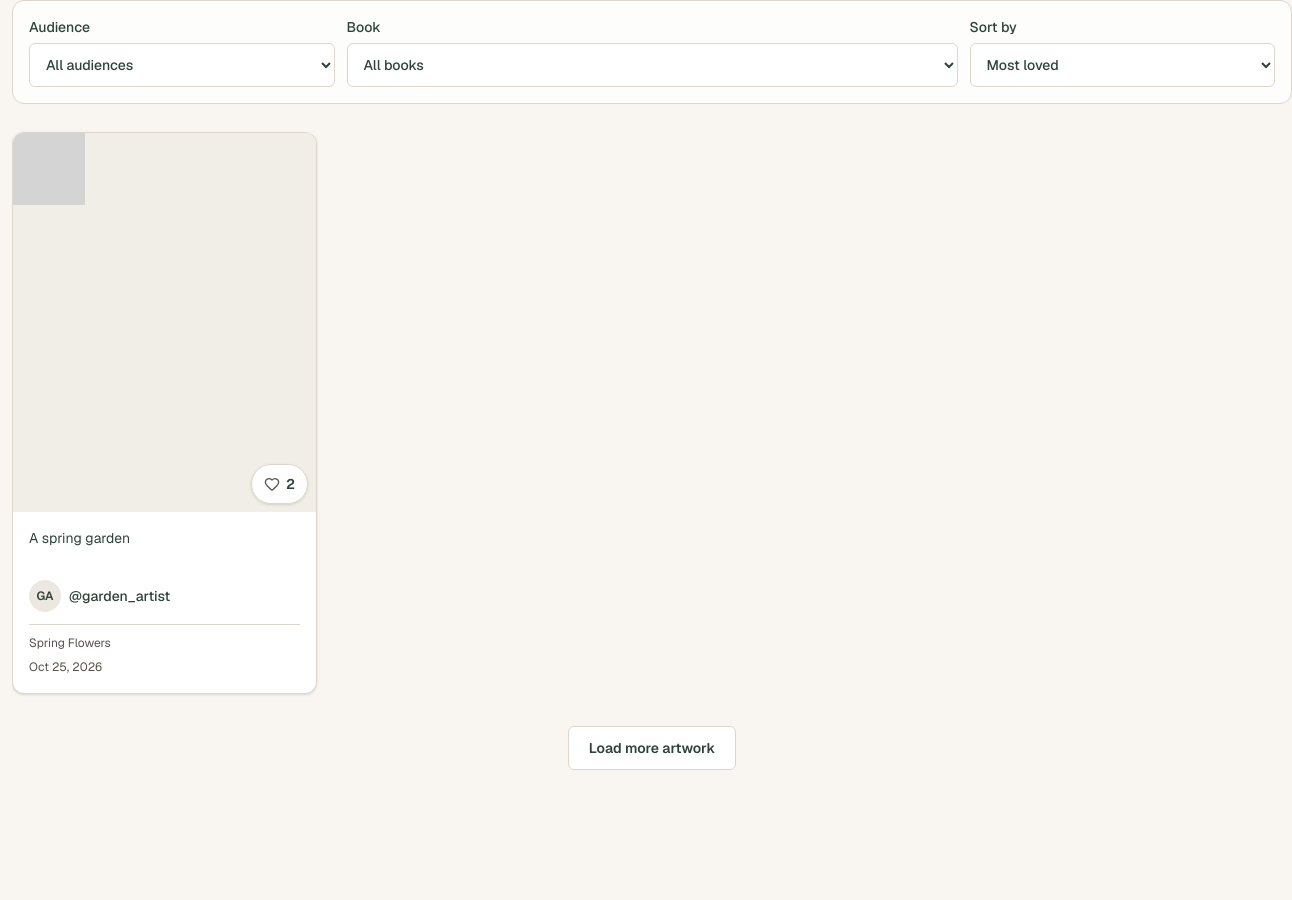
Test: public Coloring Club gallery › requests popular ordering and removes duplicates when live counts shift across pages
Check: the dropdown with test id "community-gallery-sort" shows "Most loved", box [970,43,1275,87]
Click the button with test id "community-gallery-load-more" at (652,748), box [568,726,736,770]
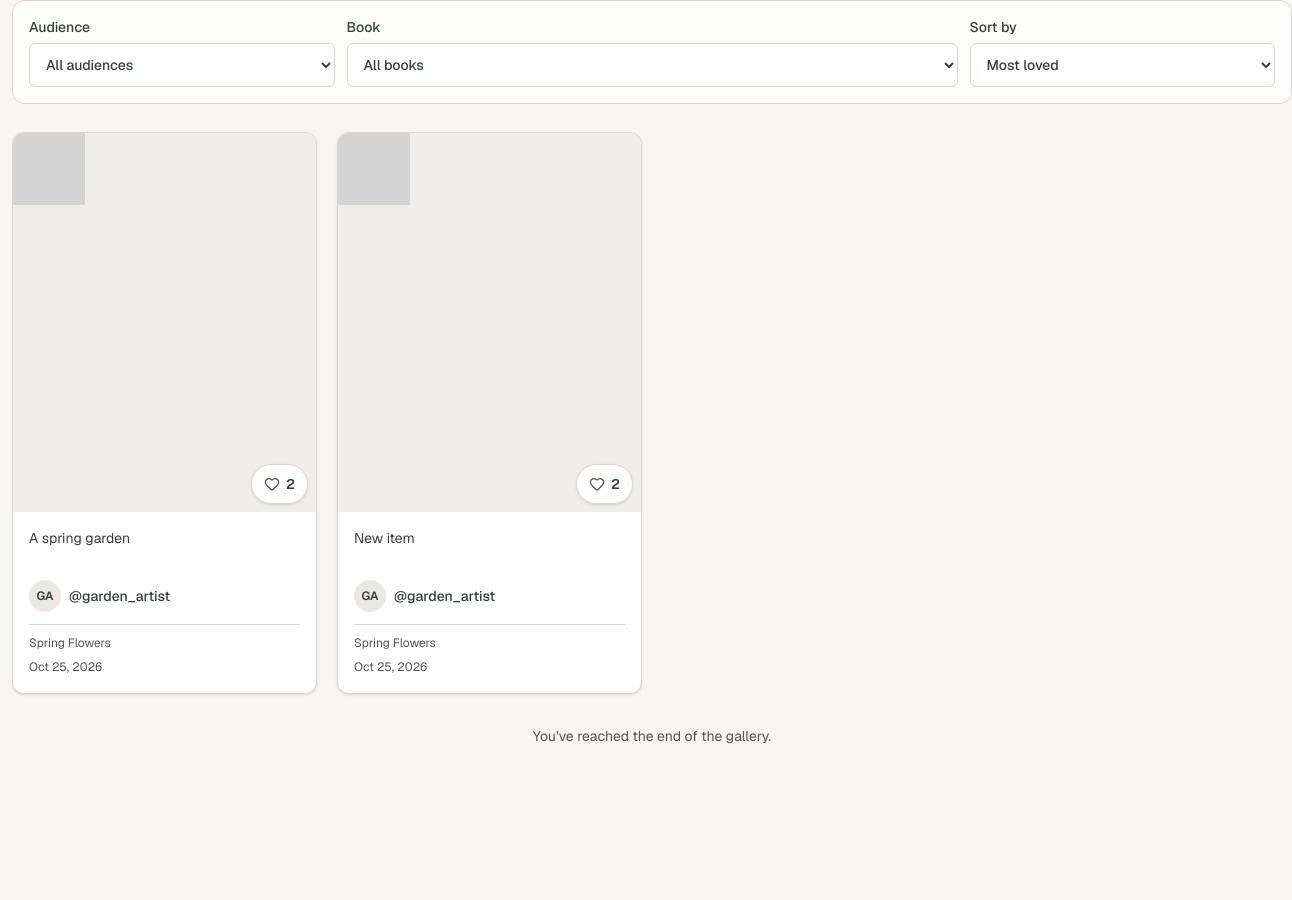
Check: the text "New item" is shown, box [354,529,415,547]
